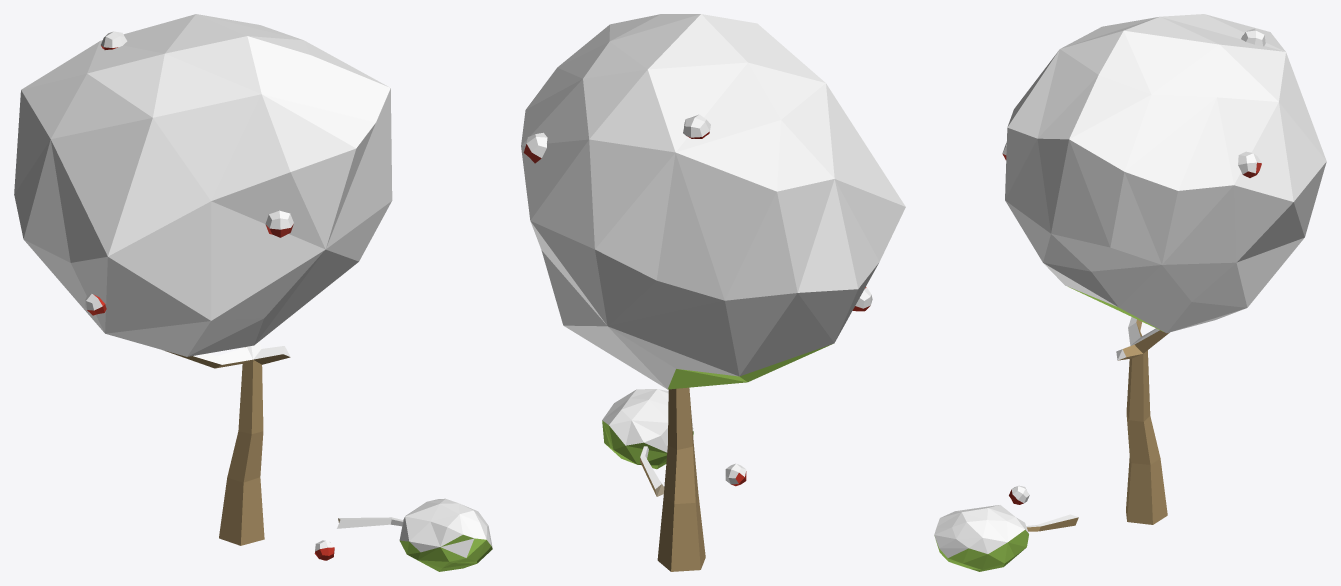
The model's file is Apple_Tree_Apples_crk_m_Snow_BT_02.fbx.
3 renders of one model, left to right at view 1: azimuth 30°, elevation 25°; view 2: azimuth 150°, elevation 25°; view 3: azimuth 270°, elevation 25°, orthographic. The views are drawn at different scales.
Visible parts, largest first — view 1: Apple_Tree_Apples_crk_m_Snow_BT_02; view 2: Apple_Tree_Apples_crk_m_Snow_BT_02; view 3: Apple_Tree_Apples_crk_m_Snow_BT_02.
Part boxes in pixels (x1,y1,x2,y2): Apple_Tree_Apples_crk_m_Snow_BT_02: (14,14,492,571); Apple_Tree_Apples_crk_m_Snow_BT_02: (521,14,905,571); Apple_Tree_Apples_crk_m_Snow_BT_02: (934,14,1326,571).
Size of the model in its own units: 476 by 668 by 492.
